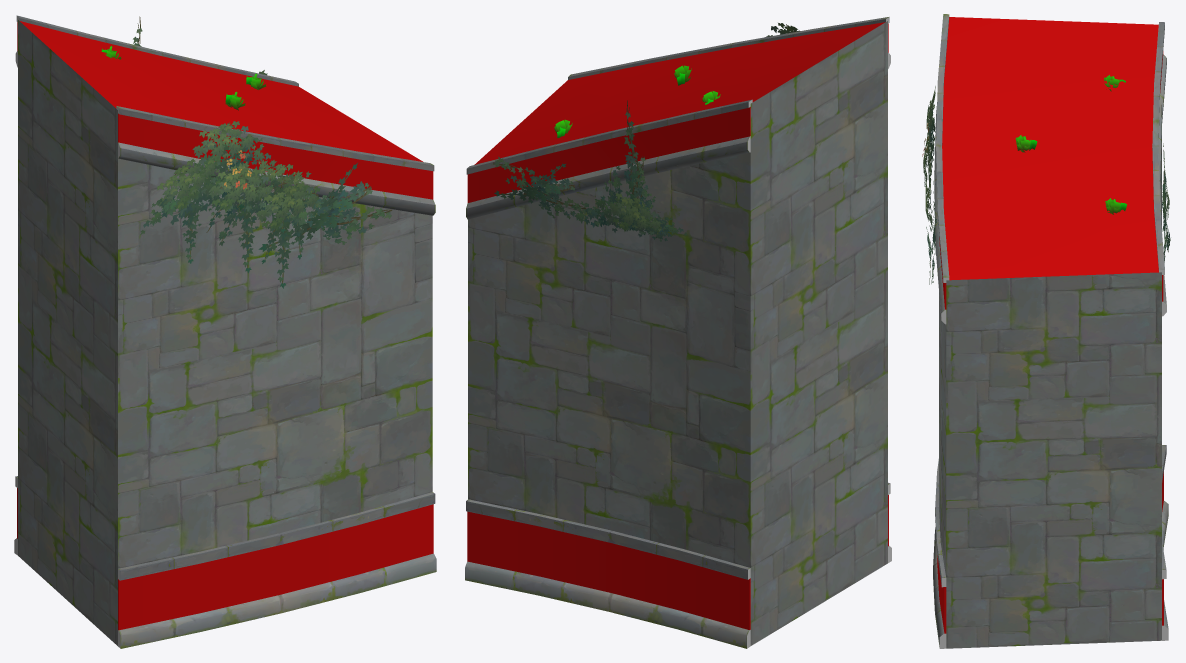
Rendered from Area_MdBuild_SdWall02_28_Group.fbx.
3 renders of one model, left to right at view 1: azimuth 30°, elevation 25°; view 2: azimuth 150°, elevation 25°; view 3: azimuth 270°, elevation 25°, orthographic. The views are drawn at different scales.
Parts seen in each view (by area): view 1: Area_MdBuild_SdWall02_28_Lod0, Stages_LYLvy06_Vo (1), Stages_LYLvy09_Vo (1); view 2: Area_MdBuild_SdWall02_28_Lod0, Stages_LYLvy07_Vo (1), Stages_LYLvy09_Vo (2); view 3: Area_MdBuild_SdWall02_28_Lod0, Stages_LYLvy06_Vo (1), Stages_LYLvy07_Vo (1).
Boxes of the visible parts, x1,y1,x2,y2 form: Area_MdBuild_SdWall02_28_Lod0: (14,15,436,648); Stages_LYLvy06_Vo (1): (140,121,320,288); Stages_LYLvy09_Vo (1): (258,163,392,251); Area_MdBuild_SdWall02_28_Lod0: (465,17,891,648); Stages_LYLvy07_Vo (1): (567,100,687,241); Stages_LYLvy09_Vo (2): (493,156,586,218); Area_MdBuild_SdWall02_28_Lod0: (933,14,1168,648); Stages_LYLvy06_Vo (1): (922,86,935,265); Stages_LYLvy07_Vo (1): (1161,105,1169,246).
Size of the model in its own units: 12.33 by 20.12 by 9.22.
